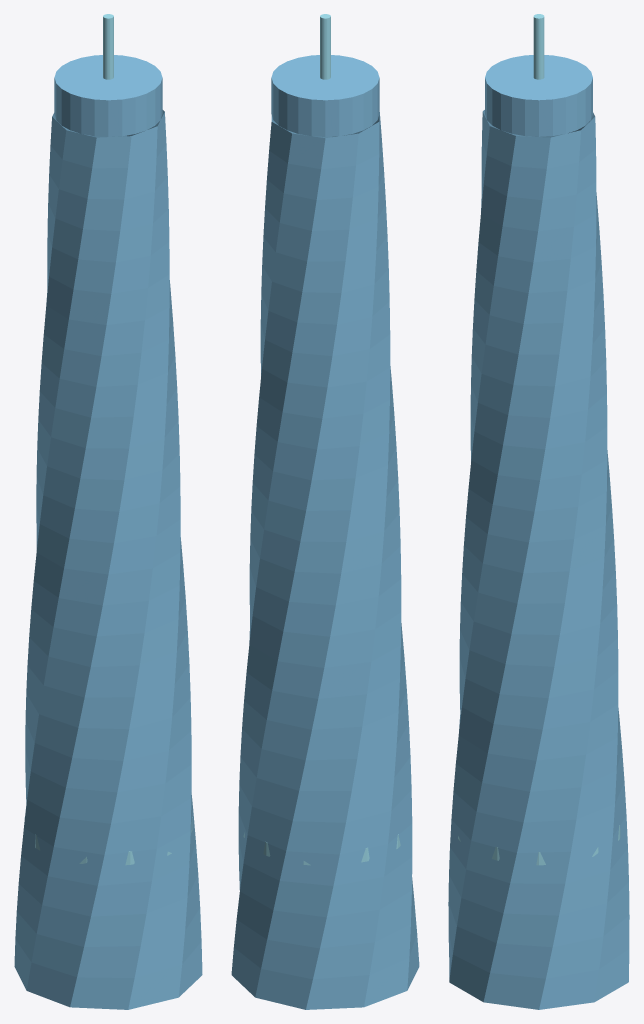
Rendered from ShanghaiTower.fbx.
3 views of the same model, side by side, from view 1: azimuth 30°, elevation 25°; view 2: azimuth 150°, elevation 25°; view 3: azimuth 270°, elevation 25° (orthographic).
Visible parts, largest first — view 1: SH_Tower, SH_Cap, SH_Spire; view 2: SH_Tower, SH_Cap, SH_Spire; view 3: SH_Tower, SH_Cap, SH_Spire.
Part boxes in pixels (x1=…): SH_Tower: x1=14, y1=110, x2=202, y2=1009; SH_Cap: x1=54, y1=55, x2=162, y2=136; SH_Spire: x1=103, y1=14, x2=113, y2=79; SH_Tower: x1=231, y1=112, x2=419, y2=1009; SH_Cap: x1=271, y1=55, x2=379, y2=136; SH_Spire: x1=320, y1=14, x2=330, y2=79; SH_Tower: x1=448, y1=110, x2=629, y2=1009; SH_Cap: x1=485, y1=55, x2=592, y2=136; SH_Spire: x1=533, y1=14, x2=544, y2=79.
Size of the model in its own units: 1400 by 7800 by 1342.
